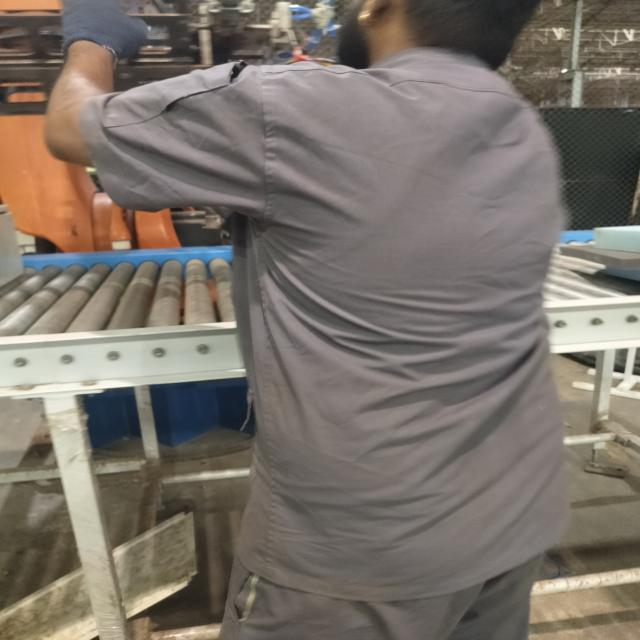Gloves-Detection: (44, 2, 144, 58)
